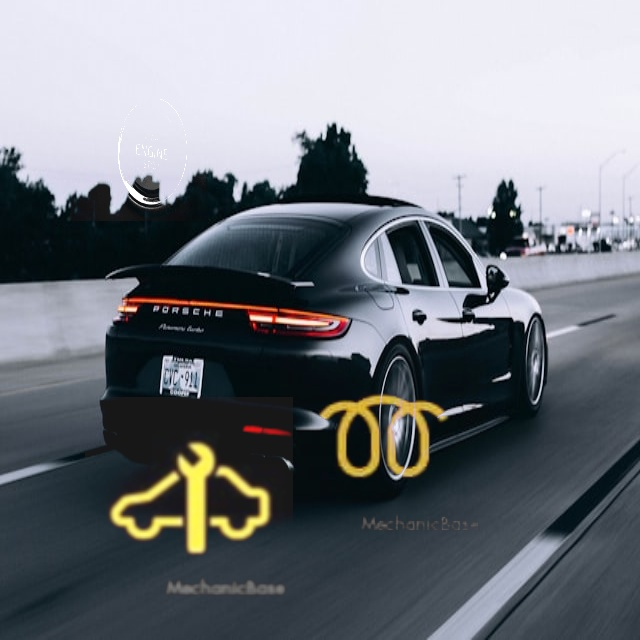symbol: (85, 397, 293, 605), (280, 334, 487, 541), (70, 85, 206, 221)
